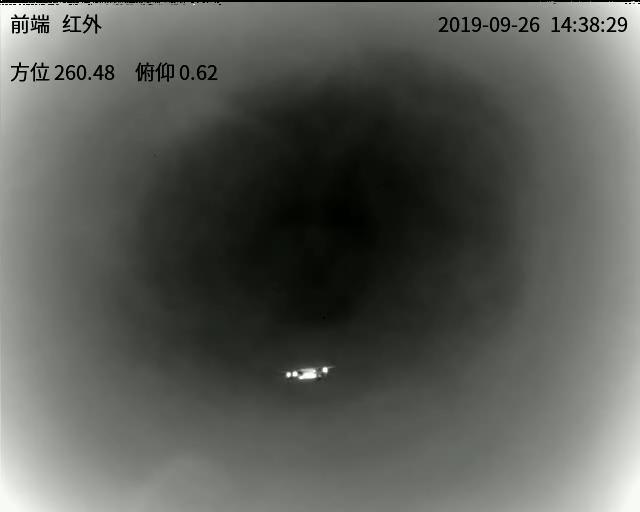uav: (282, 362, 337, 383)
